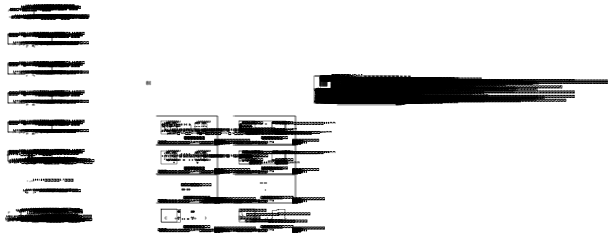corridor: (369, 114, 377, 115), (416, 114, 424, 115), (369, 83, 377, 84), (379, 114, 387, 115), (426, 114, 434, 115), (379, 83, 387, 84), (416, 83, 424, 84), (426, 83, 434, 84), (369, 105, 377, 106), (379, 105, 387, 106), (426, 105, 434, 106), (416, 74, 424, 75), (426, 74, 434, 75), (369, 74, 377, 75), (416, 105, 424, 106), (379, 74, 387, 75)
door: (488, 141, 489, 142), (489, 141, 490, 142), (496, 141, 497, 142), (496, 143, 496, 144), (497, 143, 497, 144), (496, 141, 497, 141), (489, 143, 489, 144), (489, 144, 489, 144)
room: (247, 105, 257, 115), (425, 75, 435, 83), (368, 75, 378, 83), (378, 75, 388, 83), (582, 145, 597, 148), (303, 32, 318, 35), (363, 105, 367, 113), (418, 103, 430, 105), (373, 103, 384, 105), (364, 74, 367, 81), (285, 107, 288, 113), (364, 12, 367, 16), (408, 103, 413, 105), (420, 72, 425, 74), (384, 10, 389, 12), (379, 72, 383, 74), (381, 10, 384, 12), (373, 10, 376, 12), (408, 10, 411, 12), (427, 10, 430, 12), (498, 137, 500, 139), (418, 72, 420, 74), (364, 21, 367, 22), (492, 141, 494, 142), (492, 142, 494, 143), (483, 142, 484, 144), (495, 141, 496, 143), (499, 143, 501, 144), (498, 137, 500, 138), (383, 72, 384, 74), (488, 142, 489, 143), (485, 146, 486, 147), (503, 141, 506, 141), (249, 106, 251, 106), (251, 106, 252, 106), (252, 106, 254, 106), (254, 106, 256, 106), (259, 106, 261, 106), (261, 106, 262, 106), (262, 106, 264, 106), (264, 106, 265, 106), (249, 114, 251, 114), (251, 114, 252, 114), (252, 114, 254, 114), (254, 114, 256, 114), (259, 114, 261, 114), (261, 114, 262, 114), (262, 114, 264, 114), (264, 114, 265, 114), (243, 106, 244, 106), (244, 106, 246, 106), (243, 112, 244, 112), (244, 112, 246, 112), (310, 106, 312, 106), (309, 106, 310, 106), (307, 106, 309, 106), (306, 106, 307, 106), (300, 106, 302, 106), (299, 106, 300, 106), (297, 106, 299, 106), (296, 106, 297, 106), (310, 114, 312, 114), (309, 114, 310, 114), (307, 114, 309, 114), (306, 114, 307, 114), (300, 114, 302, 114), (299, 114, 300, 114), (297, 114, 299, 114), (296, 114, 297, 114), (291, 106, 291, 106), (291, 106, 292, 106), (249, 75, 251, 75), (251, 75, 252, 75), (252, 75, 254, 75), (254, 75, 256, 75), (259, 75, 261, 75), (261, 75, 262, 75), (262, 75, 264, 75), (264, 75, 265, 75), (249, 83, 251, 83), (251, 83, 252, 83), (252, 83, 254, 83), (254, 83, 256, 83), (259, 83, 261, 83), (261, 83, 262, 83), (262, 83, 264, 83), (264, 83, 265, 83), (310, 75, 312, 75), (309, 75, 310, 75), (307, 75, 309, 75), (306, 75, 307, 75), (300, 75, 302, 75), (299, 75, 300, 75), (297, 75, 299, 75), (296, 75, 297, 75), (310, 83, 312, 83), (309, 83, 310, 83), (307, 83, 309, 83), (306, 83, 307, 83), (300, 83, 302, 83), (299, 83, 300, 83), (297, 83, 299, 83), (296, 83, 297, 83), (244, 80, 244, 80), (244, 80, 245, 80), (270, 106, 270, 106), (269, 106, 270, 106), (270, 75, 270, 75), (269, 75, 270, 75), (291, 75, 291, 75), (291, 75, 292, 75), (286, 44, 287, 44), (283, 44, 284, 44), (270, 13, 271, 13), (269, 13, 270, 13), (277, 13, 279, 13), (275, 13, 276, 13), (290, 13, 290, 13), (290, 13, 291, 13), (282, 13, 284, 13), (285, 13, 286, 13), (271, 21, 272, 21), (270, 21, 271, 21), (268, 21, 270, 21), (289, 21, 290, 21), (290, 21, 292, 21), (291, 21, 293, 21), (285, 44, 286, 44), (282, 44, 283, 44), (278, 44, 279, 44), (275, 44, 276, 44), (277, 44, 278, 44), (274, 44, 275, 44), (286, 113, 287, 113), (282, 113, 283, 113), (274, 106, 275, 106), (278, 106, 279, 106), (277, 106, 278, 106), (286, 106, 287, 106), (282, 106, 283, 106), (283, 106, 285, 106), (287, 113, 288, 113), (274, 113, 275, 113), (278, 113, 279, 113), (273, 113, 274, 113), (286, 82, 287, 82), (282, 82, 283, 82), (274, 75, 275, 75), (278, 75, 279, 75), (277, 75, 278, 75), (286, 75, 287, 75), (282, 75, 283, 75), (283, 75, 285, 75), (287, 82, 288, 82), (274, 82, 275, 82), (278, 82, 279, 82), (273, 82, 274, 82), (304, 32, 305, 32), (319, 34, 320, 34), (319, 33, 320, 33)
shaft: (363, 102, 436, 116), (363, 72, 436, 85), (415, 13, 436, 23), (368, 13, 388, 23), (415, 105, 435, 115), (415, 74, 435, 84), (247, 105, 257, 115), (378, 75, 388, 83), (425, 75, 435, 83), (368, 75, 378, 83), (363, 105, 367, 113), (418, 103, 430, 105), (373, 103, 384, 105), (364, 74, 367, 81), (285, 107, 288, 113), (364, 12, 367, 16), (384, 10, 389, 12), (408, 103, 413, 105), (420, 72, 425, 74), (369, 114, 377, 115), (369, 105, 377, 106), (379, 114, 387, 115), (379, 105, 387, 106), (426, 114, 434, 115), (426, 105, 434, 106), (416, 114, 424, 115), (416, 105, 424, 106), (379, 83, 387, 84), (379, 74, 387, 75), (416, 83, 424, 84), (416, 74, 424, 75), (426, 83, 434, 84), (426, 74, 434, 75), (369, 83, 377, 84), (369, 74, 377, 75), (379, 72, 383, 74), (375, 103, 382, 104), (420, 103, 427, 104), (373, 10, 376, 12), (381, 10, 384, 12), (408, 10, 411, 12), (427, 10, 430, 12), (364, 78, 367, 80), (418, 103, 420, 105), (428, 103, 430, 105), (418, 72, 420, 74), (364, 21, 367, 22), (364, 112, 367, 113), (364, 105, 367, 106), (364, 80, 367, 81), (269, 22, 272, 23), (383, 103, 384, 105), (373, 103, 374, 105), (421, 72, 423, 73), (383, 72, 384, 74), (368, 114, 369, 115), (376, 105, 377, 106), (387, 114, 388, 115), (386, 105, 387, 106), (373, 104, 374, 105), (383, 104, 384, 105), (374, 104, 375, 105), (434, 114, 435, 115), (432, 105, 433, 106), (426, 105, 427, 106), (415, 114, 416, 115), (416, 105, 417, 106), (422, 105, 423, 106), (420, 104, 421, 105), (427, 104, 428, 105), (387, 83, 388, 84), (415, 83, 416, 84), (416, 74, 417, 75), (434, 83, 435, 84), (432, 74, 433, 75), (426, 74, 427, 75), (434, 74, 435, 75), (368, 83, 369, 84), (376, 74, 377, 75), (423, 73, 424, 74), (381, 72, 382, 73), (383, 73, 384, 74), (238, 62, 239, 63), (238, 93, 239, 94), (375, 104, 382, 104), (420, 104, 427, 104), (370, 114, 376, 114), (370, 115, 370, 115), (376, 115, 377, 115), (370, 106, 376, 106), (370, 105, 370, 106), (379, 114, 386, 114), (385, 115, 386, 115), (379, 115, 380, 115), (380, 106, 386, 106), (380, 105, 380, 106), (382, 104, 382, 105), (426, 114, 433, 114), (432, 115, 433, 115), (426, 115, 427, 115), (426, 106, 433, 106), (417, 114, 423, 114), (416, 115, 417, 115), (422, 115, 423, 115), (416, 106, 423, 106), (419, 104, 419, 105), (429, 104, 429, 105), (364, 112, 366, 112), (364, 106, 366, 106), (379, 83, 386, 83), (385, 84, 386, 84), (379, 84, 380, 84), (380, 75, 386, 75), (380, 74, 380, 75), (387, 75, 388, 75), (417, 83, 423, 83), (416, 84, 417, 84), (422, 84, 423, 84), (416, 75, 423, 75), (426, 83, 433, 83), (432, 84, 433, 84), (426, 84, 427, 84), (426, 75, 433, 75), (370, 83, 376, 83), (370, 84, 370, 84), (376, 84, 377, 84), (370, 75, 376, 75), (370, 74, 370, 75), (364, 80, 366, 80), (421, 73, 423, 73), (421, 72, 423, 72), (419, 73, 419, 74), (381, 73, 382, 73), (381, 72, 382, 72), (380, 73, 380, 73), (249, 114, 256, 114), (238, 62, 239, 62), (238, 93, 239, 93), (238, 32, 239, 32), (238, 31, 239, 31), (238, 1, 239, 1), (238, 0, 239, 0), (387, 106, 388, 106), (358, 93, 359, 93), (358, 62, 359, 62), (358, 31, 359, 31), (358, 0, 359, 0)
staircase: (486, 139, 488, 140)
wall: (500, 148, 501, 149), (501, 148, 502, 149), (491, 139, 492, 140), (500, 149, 501, 149), (501, 149, 502, 149), (503, 141, 506, 141)
